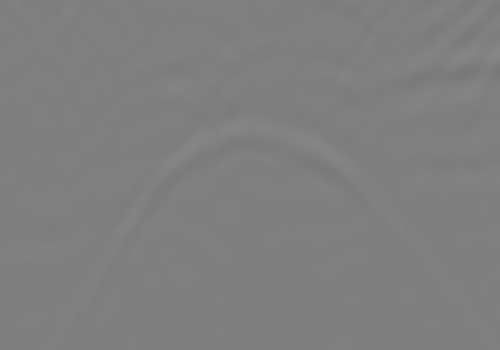hyperbola: (67, 115, 449, 309)
